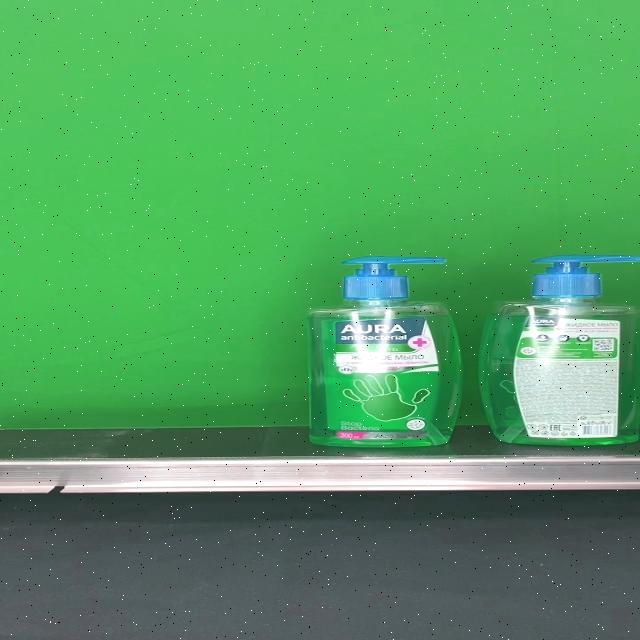Bottle: (476, 254, 640, 446), (306, 257, 462, 447)
Cap: (530, 254, 640, 298), (341, 257, 446, 301)
